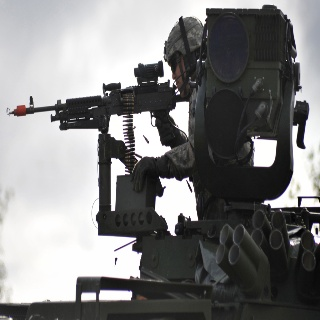rifle: (5, 60, 195, 131)
